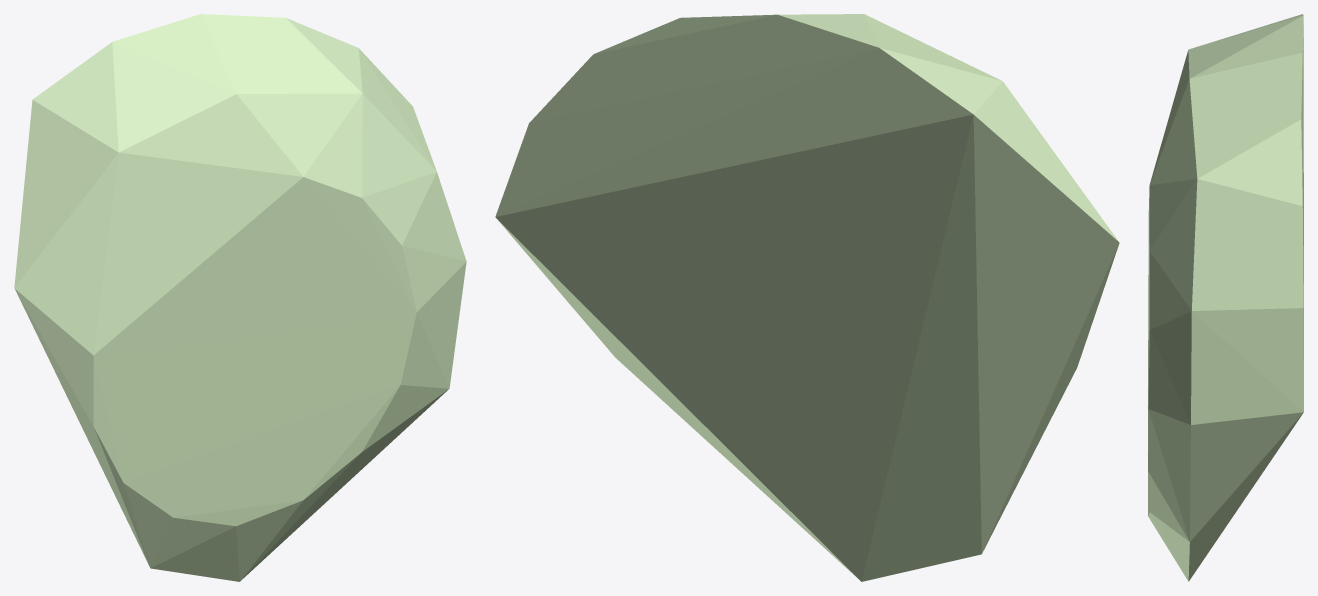
Rendered from iiwa_link8_resp_coll_3.obj.
The picture shows the model from 3 angles, left to right: view 1: azimuth 30°, elevation 25°; view 2: azimuth 150°, elevation 25°; view 3: azimuth 270°, elevation 25°; orthographic projection. The views are drawn at different scales.
Parts seen in each view (by area): view 1: node; view 2: node; view 3: node.
Boxes of the visible parts, box(x1,y1,x2,y2) form: node: box(14, 14, 466, 581); node: box(495, 14, 1119, 581); node: box(1148, 14, 1303, 581).
Size of the model in its own units: 0.0943 by 0.098 by 0.0257.
